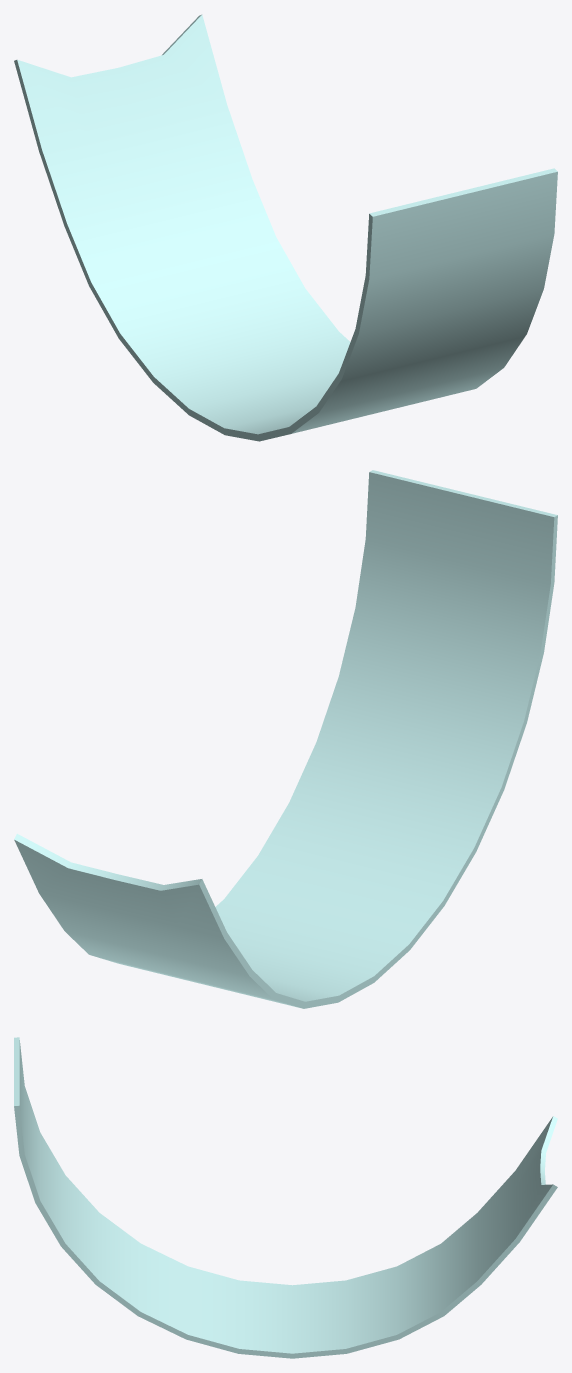
Rendered from PartBrokenWatch2.fbx.
3 renders of one model, top to bottom at view 1: azimuth 30°, elevation 25°; view 2: azimuth 150°, elevation 25°; view 3: azimuth 270°, elevation 25°, orthographic. The views are drawn at different scales.
Visible parts, largest first — view 1: Bracelet1; view 2: Bracelet1; view 3: Bracelet1.
Part boxes in pixels (<box>): Bracelet1: <box>14,14,557,441</box>; Bracelet1: <box>14,470,557,1008</box>; Bracelet1: <box>14,1037,557,1358</box>.
Size of the model in its own units: 134 by 231 by 449.
